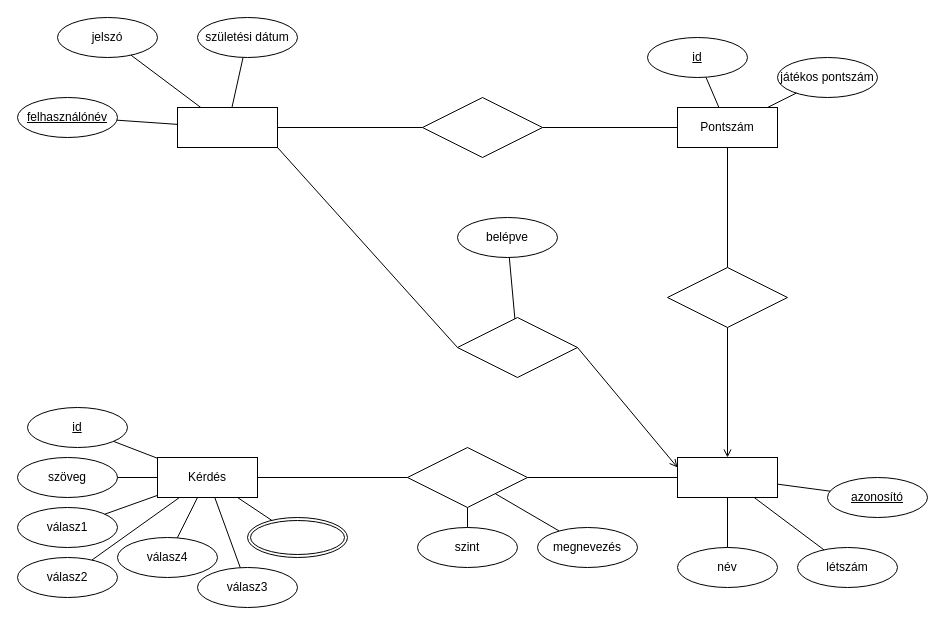
Image size: 945x625. Some labels were removed from this diagram. Each missing label, with the box of its shape:
belép: (456, 316, 578, 378)
elér: (422, 96, 542, 158)
Felhasználó: (176, 106, 278, 148)
Játék: (676, 456, 778, 498)
megszerez: (666, 266, 788, 328)
nehézség: (406, 446, 528, 508)
témakör: (246, 516, 348, 558)
